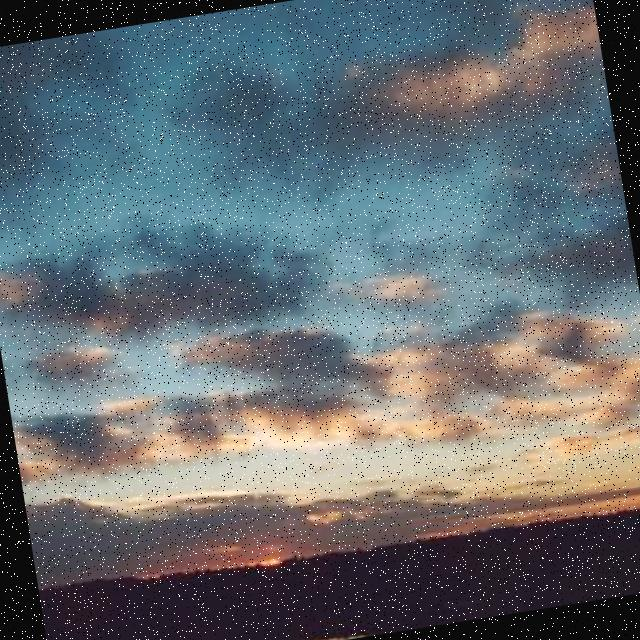As: (1, 154, 640, 510)
